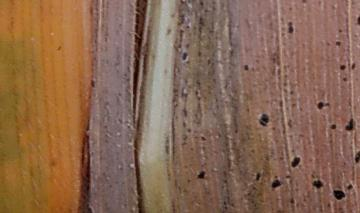tarspot: (330, 188, 346, 201), (257, 111, 270, 126), (344, 117, 356, 133), (175, 28, 184, 49), (289, 155, 301, 168), (270, 178, 282, 190), (311, 178, 324, 189), (179, 85, 188, 100), (195, 170, 207, 180), (196, 14, 205, 26), (180, 106, 188, 118), (354, 149, 360, 165), (280, 123, 287, 136), (227, 48, 236, 58), (344, 182, 354, 191), (177, 14, 185, 25), (180, 51, 188, 61), (254, 171, 261, 182), (286, 25, 294, 34), (126, 137, 135, 145), (288, 196, 296, 205), (334, 39, 343, 47), (163, 144, 170, 154), (355, 13, 360, 27), (286, 118, 292, 129), (199, 135, 207, 143), (315, 101, 323, 109), (338, 63, 346, 71), (196, 25, 203, 34), (180, 120, 187, 129), (179, 133, 188, 140), (341, 74, 348, 83), (221, 169, 228, 178), (89, 78, 95, 88), (194, 78, 201, 86), (184, 127, 192, 134), (179, 140, 187, 147), (232, 127, 239, 135), (289, 102, 297, 109), (329, 123, 336, 131), (276, 65, 281, 75), (169, 11, 176, 18), (116, 117, 123, 124), (171, 87, 178, 94), (170, 96, 177, 103), (172, 102, 179, 109), (210, 77, 217, 84), (242, 64, 249, 71), (221, 82, 228, 89), (249, 147, 256, 154), (270, 125, 277, 132), (293, 186, 300, 193), (278, 15, 285, 22), (337, 205, 344, 212), (165, 27, 171, 35), (162, 67, 168, 75), (173, 113, 179, 121), (224, 187, 230, 195), (281, 87, 289, 93), (277, 99, 283, 107), (283, 174, 291, 180), (350, 62, 356, 70), (275, 208, 284, 213), (116, 91, 123, 97), (196, 49, 202, 56), (205, 58, 211, 65), (185, 177, 192, 183), (188, 146, 195, 152), (244, 106, 250, 113), (228, 201, 235, 207), (199, 145, 205, 152), (288, 88, 294, 95), (297, 106, 304, 112), (253, 58, 260, 64), (323, 101, 330, 107), (337, 27, 343, 34), (279, 25, 286, 31), (297, 132, 304, 138), (287, 133, 294, 139), (214, 104, 220, 111), (307, 156, 313, 163), (102, 36, 109, 42), (316, 1, 323, 7), (286, 20, 294, 25), (270, 55, 275, 63), (279, 32, 287, 37), (56, 45, 62, 51), (203, 7, 209, 13), (126, 124, 132, 130), (104, 138, 110, 144), (184, 42, 190, 48), (211, 5, 217, 11), (182, 78, 188, 84), (193, 89, 199, 95), (251, 185, 257, 191), (215, 132, 221, 138), (245, 191, 251, 197), (277, 155, 283, 161), (281, 80, 287, 86), (325, 202, 331, 208), (327, 138, 333, 144), (327, 131, 333, 137), (107, 182, 113, 188), (102, 124, 109, 129), (182, 164, 189, 169), (192, 135, 199, 140), (199, 161, 204, 168), (250, 65, 255, 72), (300, 42, 305, 49), (117, 164, 122, 171), (103, 132, 109, 137), (103, 100, 109, 105), (183, 170, 189, 175), (222, 178, 227, 184), (221, 199, 226, 205), (222, 205, 228, 210), (272, 174, 278, 179), (283, 73, 288, 79), (325, 40, 330, 46), (330, 4, 335, 10), (213, 96, 218, 102), (268, 21, 273, 27), (342, 160, 347, 166), (185, 24, 190, 29), (198, 1, 203, 6), (122, 72, 127, 77), (276, 75, 281, 80), (309, 173, 314, 178), (179, 1, 185, 5), (201, 95, 207, 99), (249, 198, 253, 204), (299, 1, 307, 4), (290, 147, 294, 153), (210, 1, 217, 4), (196, 96, 201, 100), (252, 203, 257, 207), (287, 6, 292, 10), (186, 1, 191, 4)
